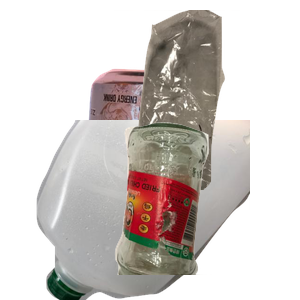glass: (112, 120, 300, 300)
metal: (82, 66, 270, 246)
plastic: (34, 120, 274, 300)
trash: (114, 10, 300, 190)
